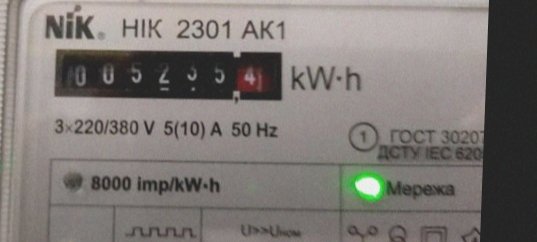0: (71, 61, 87, 87), (99, 60, 115, 85)
2: (154, 58, 171, 85)
3: (181, 56, 199, 82)
4: (239, 59, 258, 88)
5: (209, 57, 226, 85), (127, 58, 142, 84)
screen: (39, 32, 291, 114)
